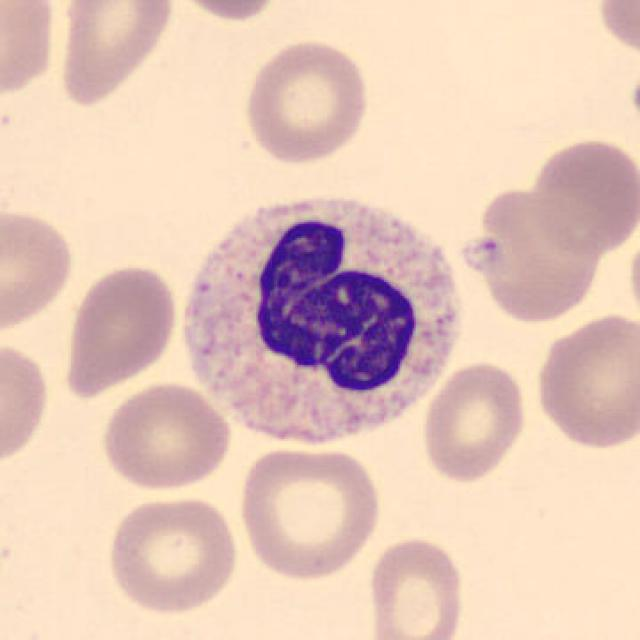Neutrophil: (170, 184, 474, 461)
RBC: (457, 180, 610, 324), (233, 442, 386, 582), (103, 492, 242, 617), (240, 35, 372, 166), (59, 261, 181, 398), (96, 379, 235, 494), (530, 308, 638, 452), (418, 358, 530, 485), (524, 134, 636, 257), (53, 0, 177, 109), (362, 532, 468, 640), (0, 205, 78, 335), (0, 335, 53, 471), (0, 0, 60, 104), (164, 0, 292, 25), (594, 0, 640, 60)
